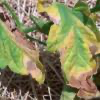Tomato Early blight leaf: (44, 2, 99, 90), (1, 20, 42, 87)
